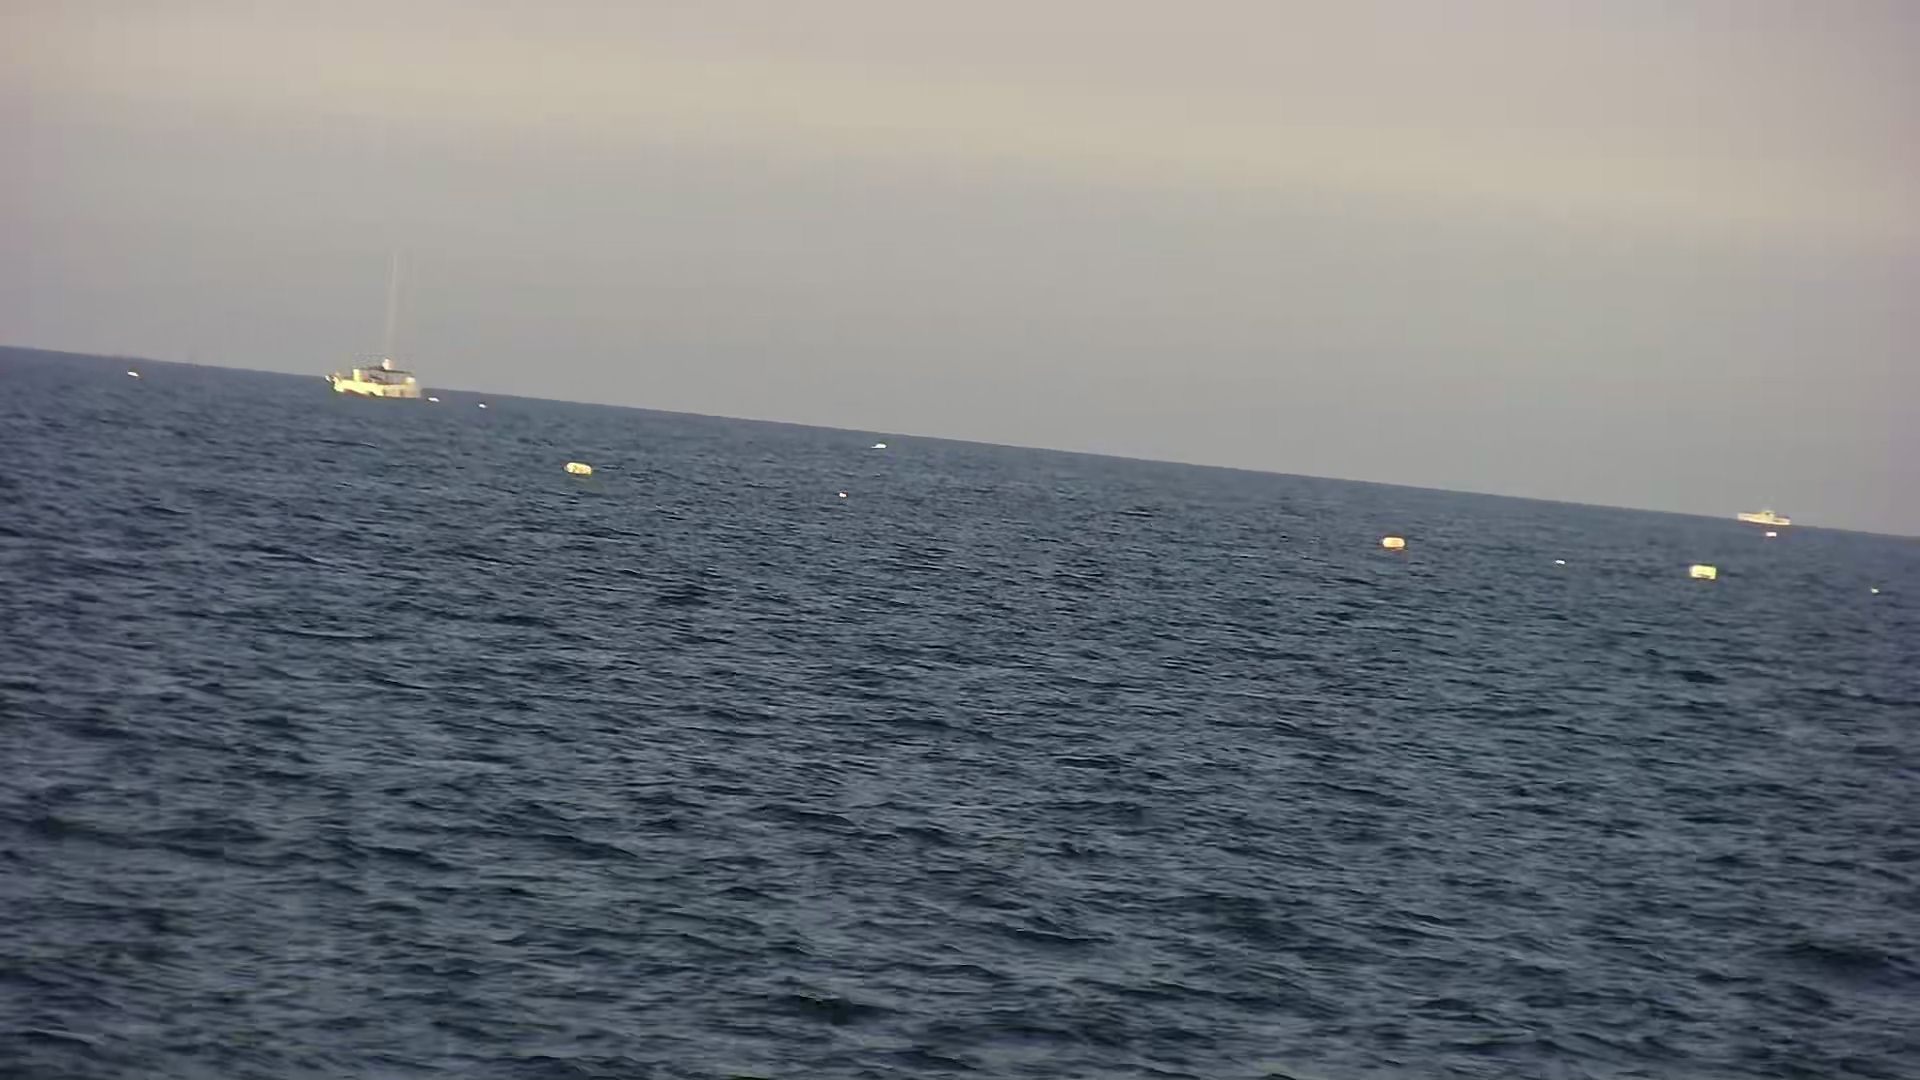platform: (323, 260, 440, 415)
rubbish: (545, 442, 593, 487), (1689, 553, 1725, 588), (1374, 526, 1411, 553)
ship: (1734, 500, 1797, 535)
